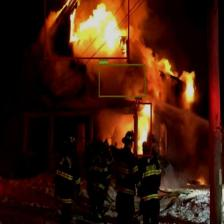fire: (44, 0, 129, 59), (134, 102, 152, 156)
smoke: (98, 64, 146, 97)
